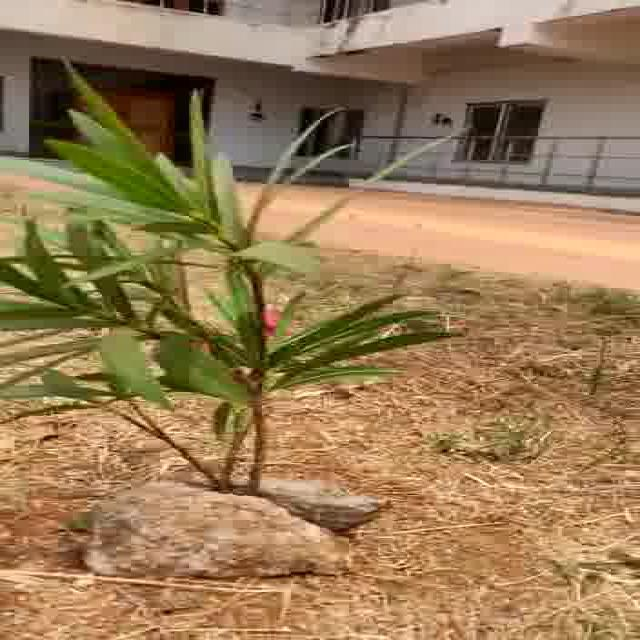Oleander: (0, 84, 455, 462)
